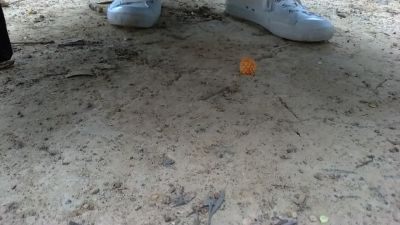eggs: (237, 56, 260, 78)
